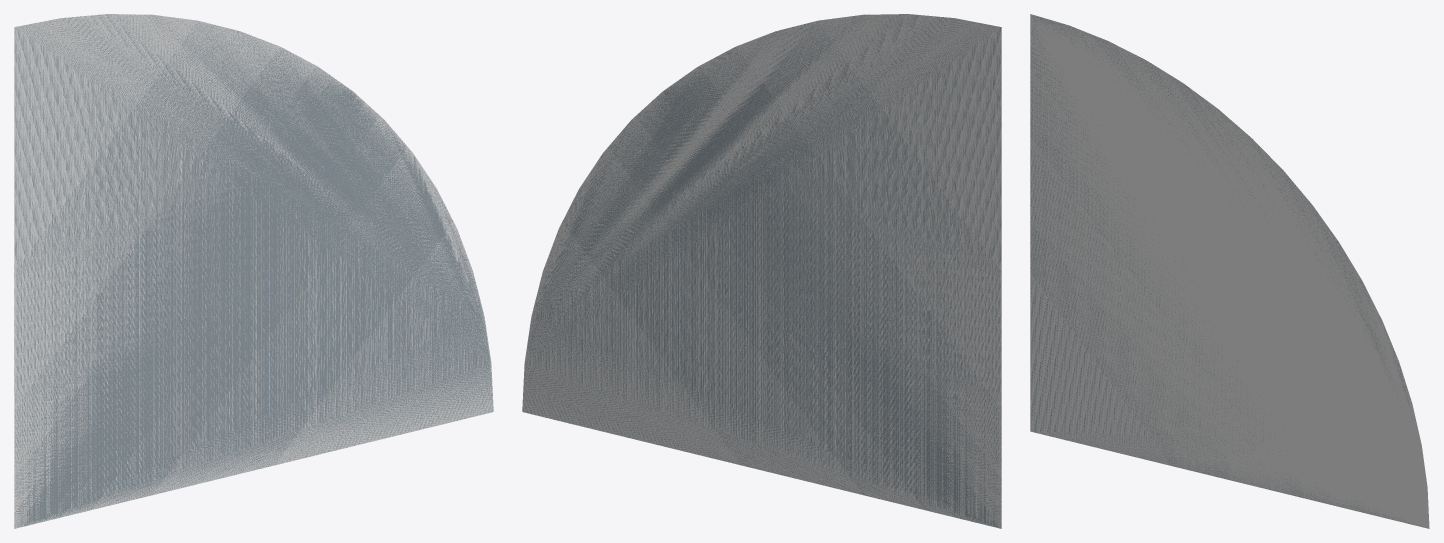
File: Quater_round_64.obj
3 views of the same model, side by side, from view 1: azimuth 30°, elevation 25°; view 2: azimuth 150°, elevation 25°; view 3: azimuth 330°, elevation 25° (orthographic). The views are drawn at different scales.
Visible parts, largest first — view 1: Mesh1 Model; view 2: Mesh1 Model; view 3: Mesh1 Model.
Boxes of the visible parts, bbox=[...] form: Mesh1 Model: bbox=[14, 14, 493, 528]; Mesh1 Model: bbox=[522, 14, 1001, 528]; Mesh1 Model: bbox=[1030, 14, 1429, 528].
Bounding box in the file's own units: 1.29 × 1.29 × 0.
